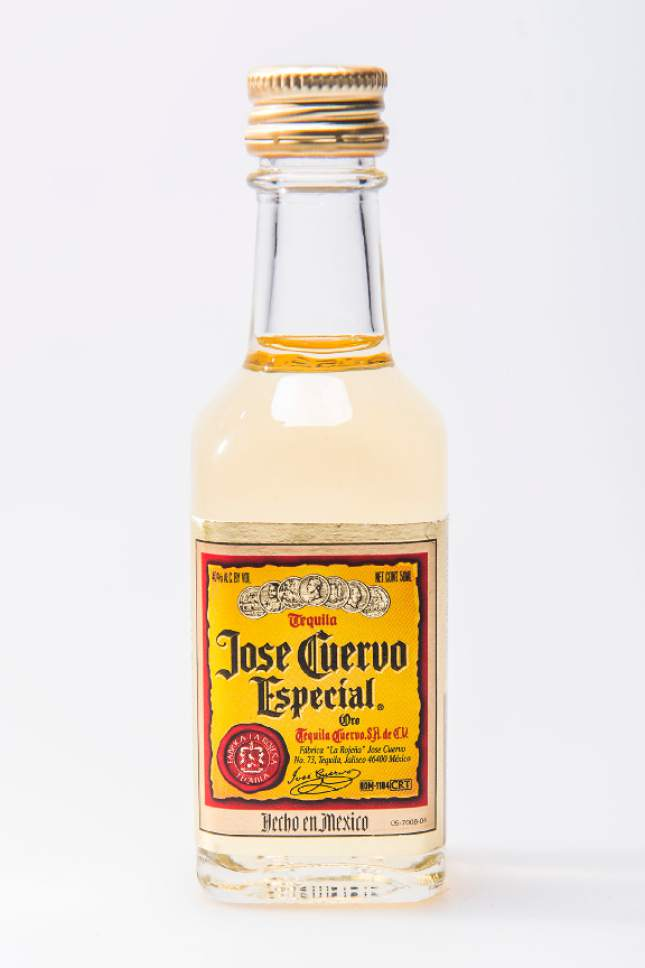bottle: (180, 56, 456, 921)
